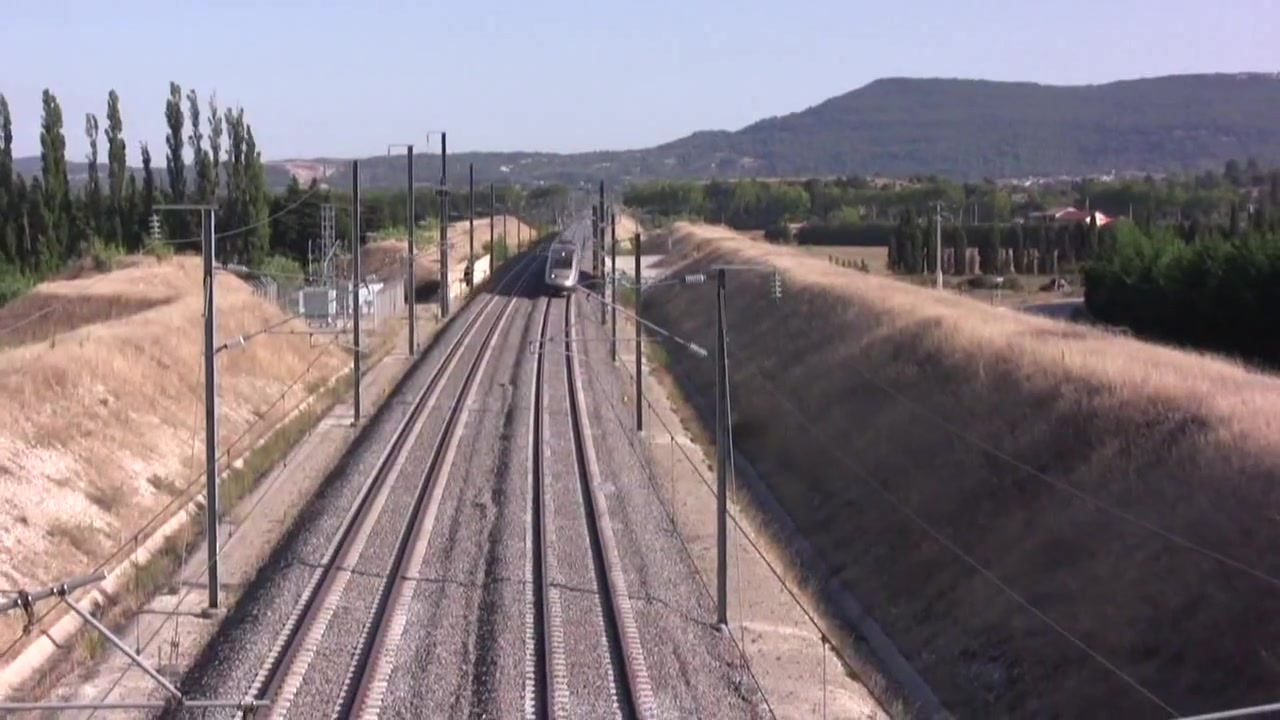train: (547, 233, 584, 296)
